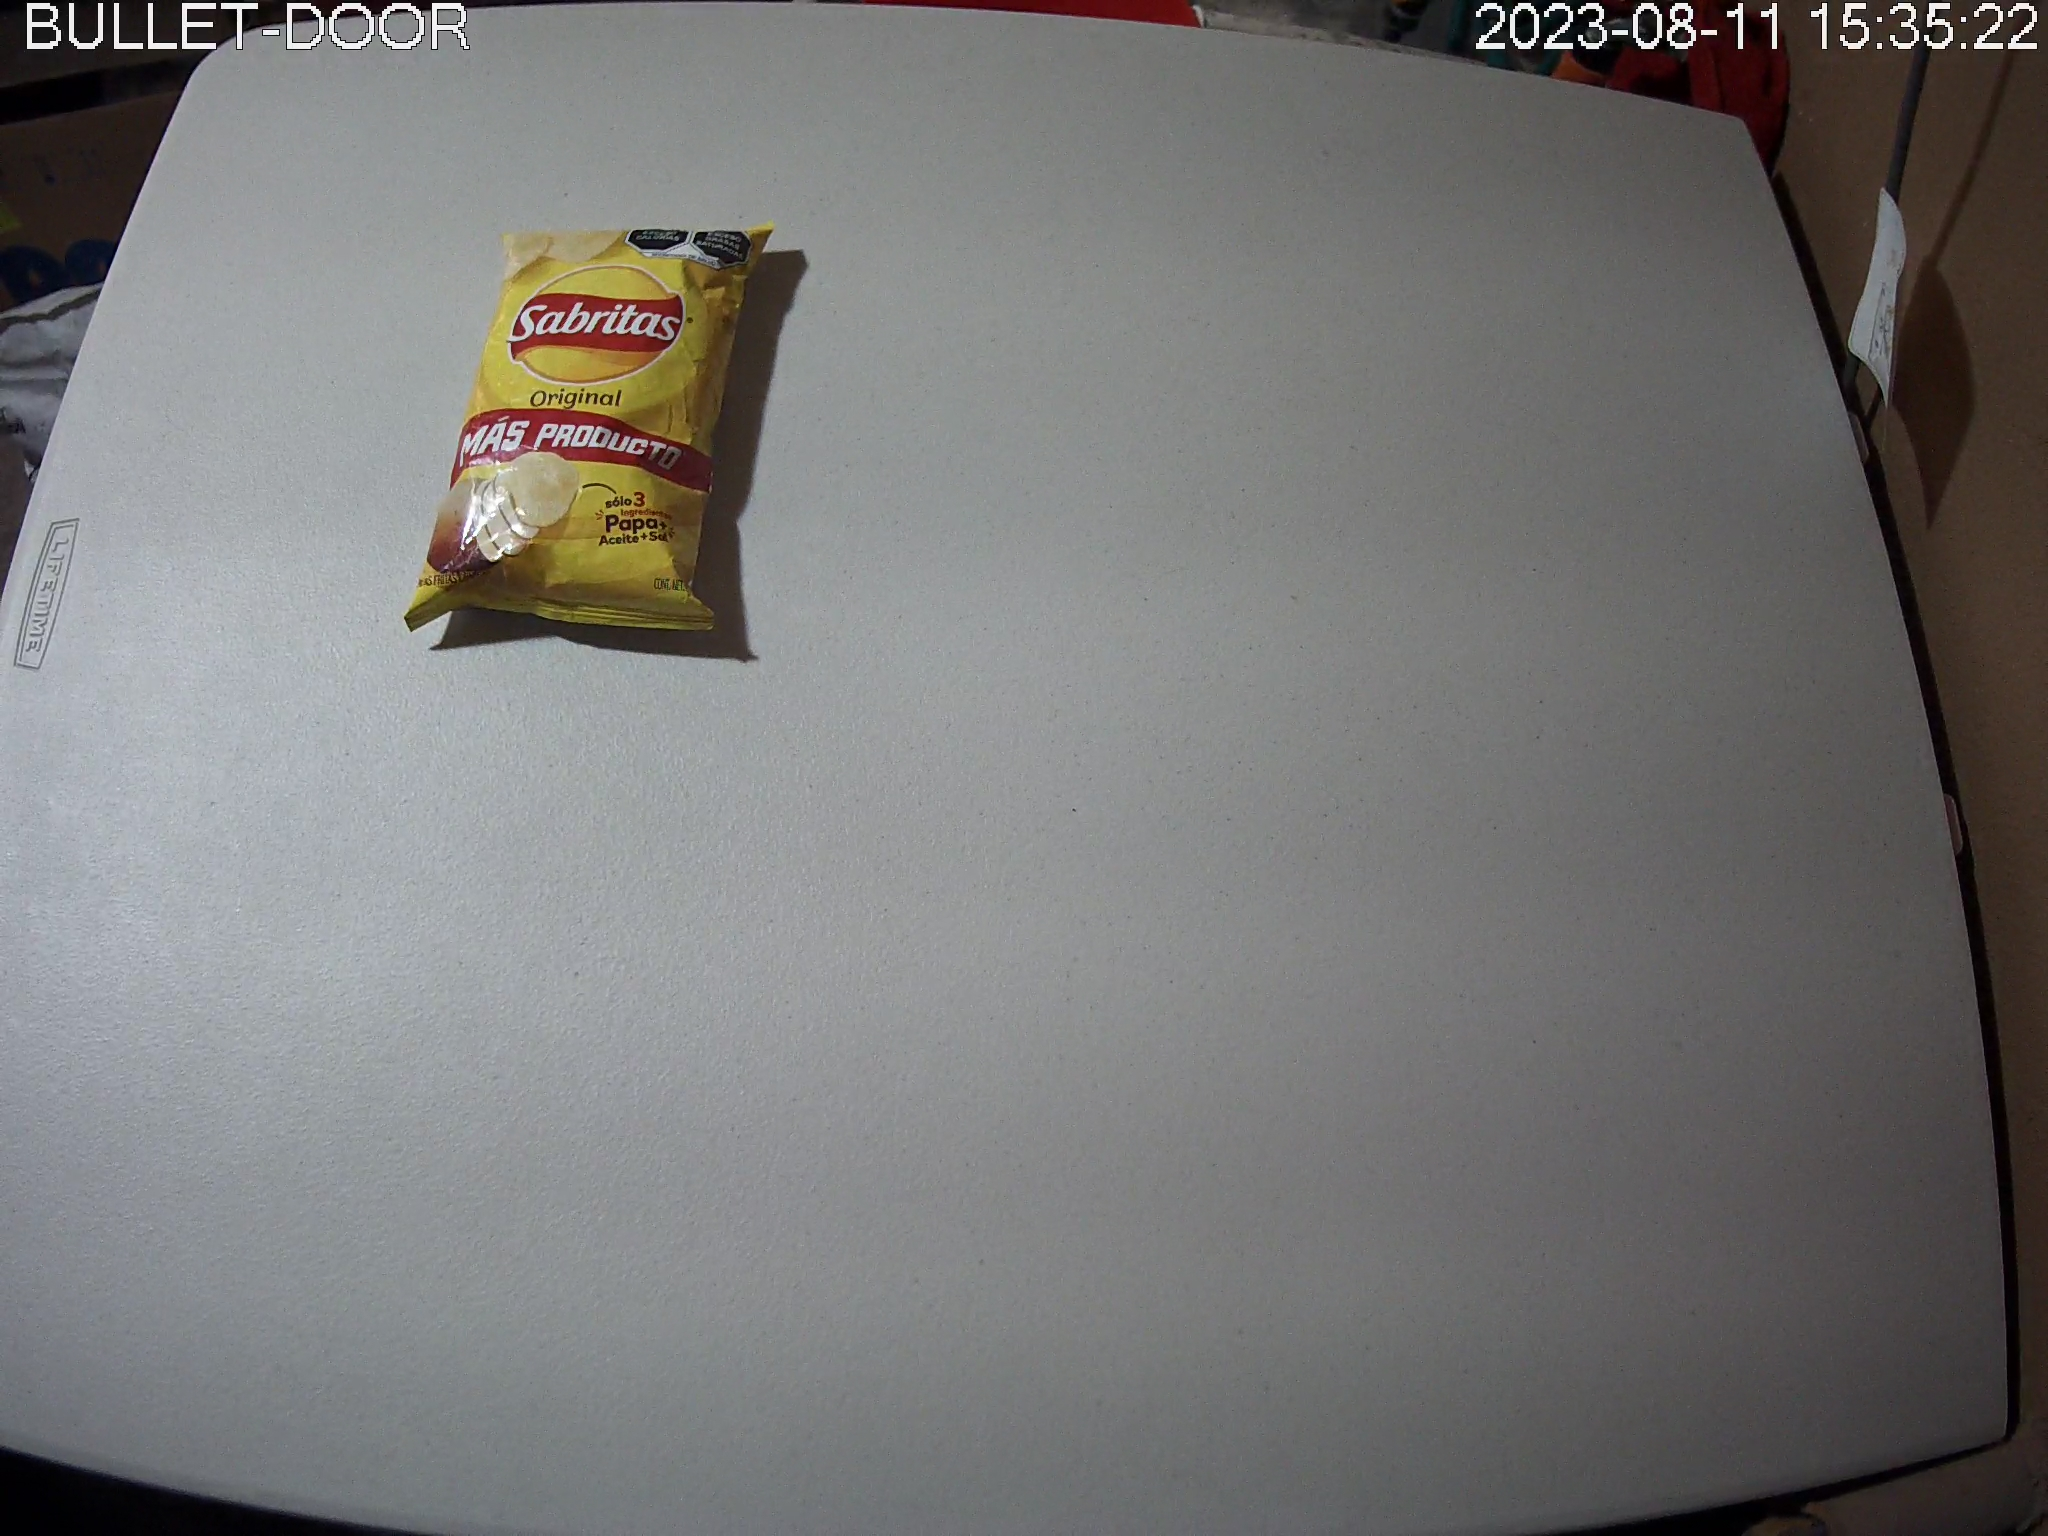Sabritas_45_F: (405, 221, 777, 637)
